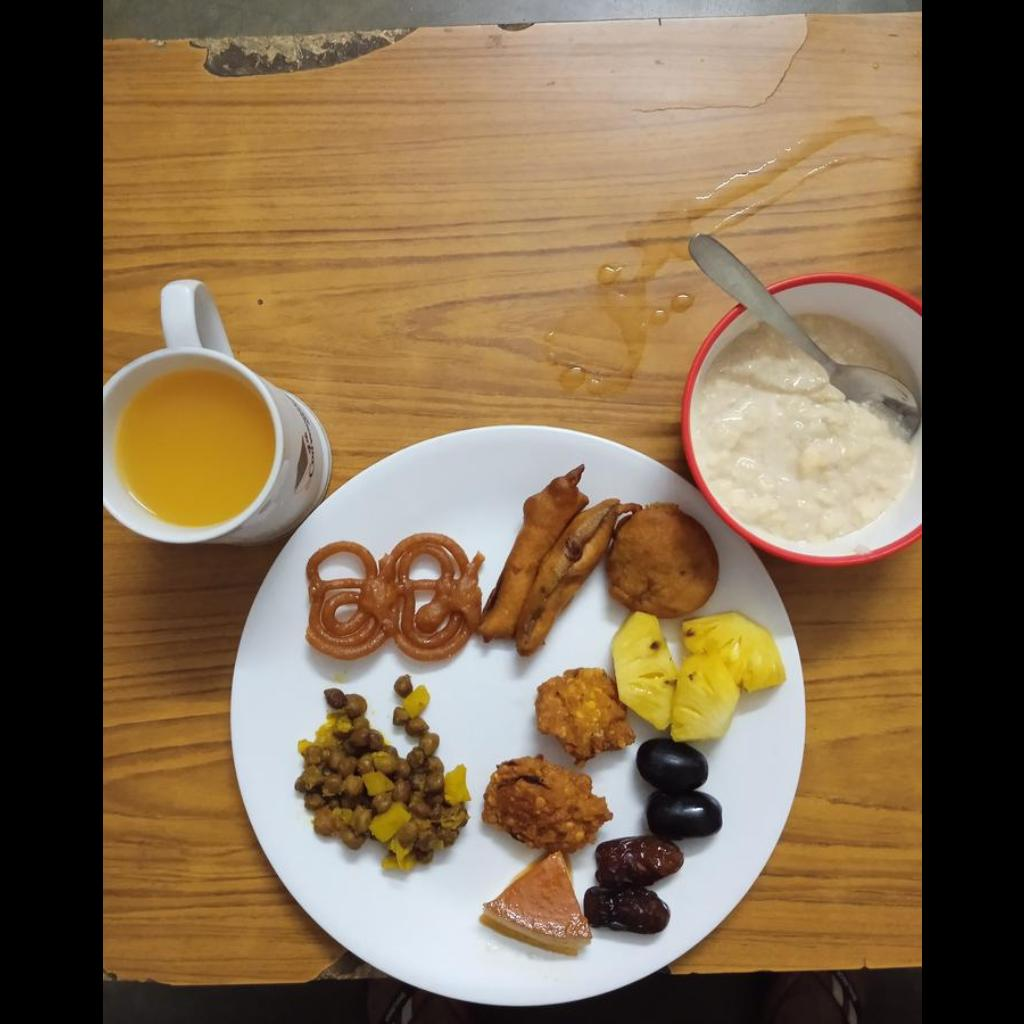beguni: (484, 465, 632, 655)
chola: (297, 674, 470, 865)
chop-alu: (611, 507, 716, 611)
dates: (588, 841, 687, 931), (636, 738, 719, 841)
jilapi: (300, 535, 480, 663)
juice: (115, 375, 274, 527)
payesh: (691, 322, 913, 535)
peyaju: (486, 671, 624, 839)
pineapple: (614, 617, 783, 736)
watermelon: (487, 863, 587, 947)
